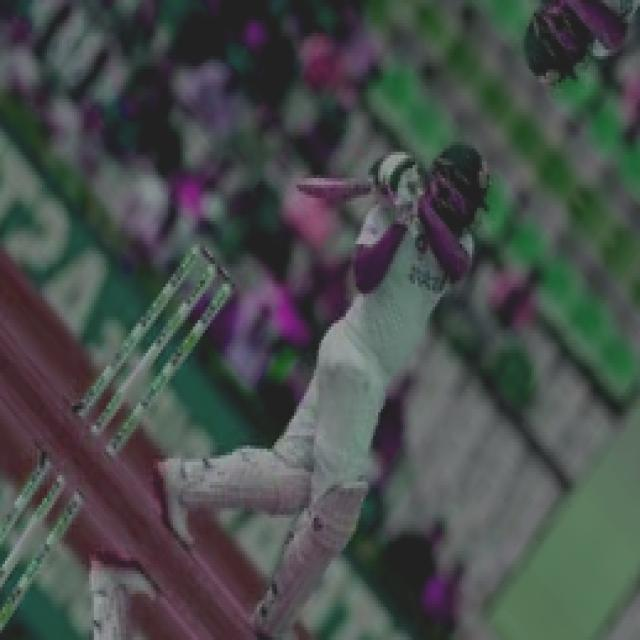toe: (291, 170, 317, 200)
